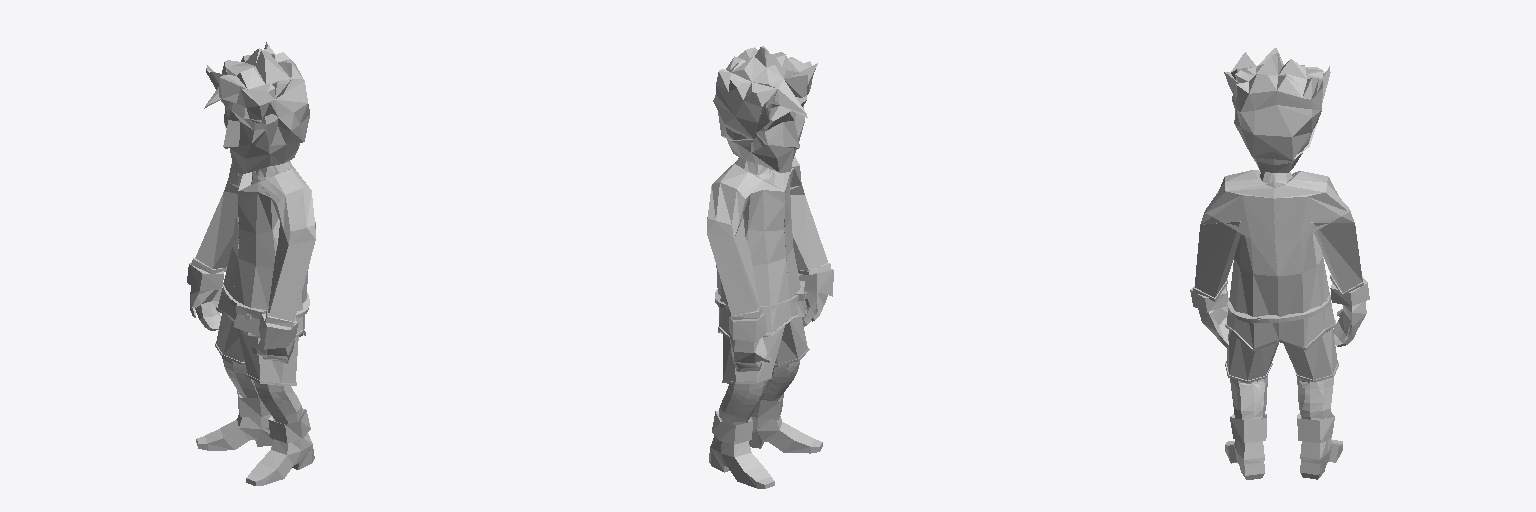
The model's file is idleNoWeapon17.obj.
3 views of the same model, side by side, from view 1: azimuth 30°, elevation 25°; view 2: azimuth 150°, elevation 25°; view 3: azimuth 270°, elevation 25° (orthographic).
Visible parts, largest first — view 1: Jacket__jaket_Cylinder.001_Jacket__jaket_Cylinder.001_P_e8d_Jack, Hair_Hair__Cube.000_Hair_Hair__Cube.000_PlayerMaterialOffic_Hair, Head_Head_Cube.000_Head_Head_Cube.000_PlayerMaterialOfficia_Head, Boot_right_bota_Cube.000_Boot_right_bota_Cube.000_Playe_7d6_Boot, Trausers_trausers_Cylinder.000_Trausers_trausers_Cylind_bfd_Trau, Humanoide_Body_Base_Modified_Humanoide_Base_Base_NPC__c_7f8_Huma, Boot_left_bota_Cube.001_Boot_left_bota_Cube.001_PlayerM_5d3_Boot, Globe_left_globe_Cylinder.001_Globe_left_globe_Cylinder_383_Glob, Globe_right_globe_Cylinder.005_Globe_right_globe_Cylind_70e_Glob, Bag_Cube_Cube.001_Bag_Cube_Cube.001_PlayerMaterialOfficial.001_B; view 2: Jacket__jaket_Cylinder.001_Jacket__jaket_Cylinder.001_P_e8d_Jack, Hair_Hair__Cube.000_Hair_Hair__Cube.000_PlayerMaterialOffic_Hair, Head_Head_Cube.000_Head_Head_Cube.000_PlayerMaterialOfficia_Head, Boot_left_bota_Cube.001_Boot_left_bota_Cube.001_PlayerM_5d3_Boot, Humanoide_Body_Base_Modified_Humanoide_Base_Base_NPC__c_7f8_Huma, Trausers_trausers_Cylinder.000_Trausers_trausers_Cylind_bfd_Trau, Boot_right_bota_Cube.000_Boot_right_bota_Cube.000_Playe_7d6_Boot, Globe_left_globe_Cylinder.001_Globe_left_globe_Cylinder_383_Glob, Globe_right_globe_Cylinder.005_Globe_right_globe_Cylind_70e_Glob; view 3: Jacket__jaket_Cylinder.001_Jacket__jaket_Cylinder.001_P_e8d_Jack, Hair_Hair__Cube.000_Hair_Hair__Cube.000_PlayerMaterialOffic_Hair, Trausers_trausers_Cylinder.000_Trausers_trausers_Cylind_bfd_Trau, Humanoide_Body_Base_Modified_Humanoide_Base_Base_NPC__c_7f8_Huma, Boot_left_bota_Cube.001_Boot_left_bota_Cube.001_PlayerM_5d3_Boot, Boot_right_bota_Cube.000_Boot_right_bota_Cube.000_Playe_7d6_Boot, Globe_left_globe_Cylinder.001_Globe_left_globe_Cylinder_383_Glob, Globe_right_globe_Cylinder.005_Globe_right_globe_Cylind_70e_Glob, Belt_Cylinder.001_Belt_Cylinder.001_PlayerMaterialOfficial.001_B, Head_Head_Cube.000_Head_Head_Cube.000_PlayerMaterialOfficia_Head.
Boxes of the visible parts, <box> form: Jacket__jaket_Cylinder.001_Jacket__jaket_Cylinder.001_P_e8d_Jack: <box>191,164,315,338</box>; Hair_Hair__Cube.000_Hair_Hair__Cube.000_PlayerMaterialOffic_Hair: <box>204,42,309,145</box>; Head_Head_Cube.000_Head_Head_Cube.000_PlayerMaterialOfficia_Head: <box>221,99,299,173</box>; Boot_right_bota_Cube.000_Boot_right_bota_Cube.000_Playe_7d6_Boot: <box>246,408,314,485</box>; Trausers_trausers_Cylinder.000_Trausers_trausers_Cylind_bfd_Trau: <box>215,314,298,385</box>; Humanoide_Body_Base_Modified_Humanoide_Base_Base_NPC__c_7f8_Huma: <box>222,161,302,424</box>; Boot_left_bota_Cube.001_Boot_left_bota_Cube.001_PlayerM_5d3_Boot: <box>196,390,273,450</box>; Globe_left_globe_Cylinder.001_Globe_left_globe_Cylinder_383_Glob: <box>187,262,223,330</box>; Globe_right_globe_Cylinder.005_Globe_right_globe_Cylind_70e_Glob: <box>252,314,298,363</box>; Bag_Cube_Cube.001_Bag_Cube_Cube.001_PlayerMaterialOfficial.001_B: <box>233,303,265,336</box>; Jacket__jaket_Cylinder.001_Jacket__jaket_Cylinder.001_P_e8d_Jack: <box>707,156,830,339</box>; Hair_Hair__Cube.000_Hair_Hair__Cube.000_PlayerMaterialOffic_Hair: <box>713,46,817,146</box>; Head_Head_Cube.000_Head_Head_Cube.000_PlayerMaterialOfficia_Head: <box>725,96,806,172</box>; Boot_left_bota_Cube.001_Boot_left_bota_Cube.001_PlayerM_5d3_Boot: <box>709,410,774,488</box>; Humanoide_Body_Base_Modified_Humanoide_Base_Base_NPC__c_7f8_Huma: <box>719,158,799,425</box>; Trausers_trausers_Cylinder.000_Trausers_trausers_Cylind_bfd_Trau: <box>722,317,809,383</box>; Boot_right_bota_Cube.000_Boot_right_bota_Cube.000_Playe_7d6_Boot: <box>749,394,822,453</box>; Globe_left_globe_Cylinder.001_Globe_left_globe_Cylinder_383_Glob: <box>729,313,771,371</box>; Globe_right_globe_Cylinder.005_Globe_right_globe_Cylind_70e_Glob: <box>798,269,833,326</box>; Jacket__jaket_Cylinder.001_Jacket__jaket_Cylinder.001_P_e8d_Jack: <box>1193,170,1363,351</box>; Hair_Hair__Cube.000_Hair_Hair__Cube.000_PlayerMaterialOffic_Hair: <box>1224,48,1330,160</box>; Trausers_trausers_Cylinder.000_Trausers_trausers_Cylind_bfd_Trau: <box>1225,329,1338,382</box>; Humanoide_Body_Base_Modified_Humanoide_Base_Base_NPC__c_7f8_Huma: <box>1230,172,1333,420</box>; Boot_left_bota_Cube.001_Boot_left_bota_Cube.001_PlayerM_5d3_Boot: <box>1297,412,1342,479</box>; Boot_right_bota_Cube.000_Boot_right_bota_Cube.000_Playe_7d6_Boot: <box>1225,414,1266,479</box>; Globe_left_globe_Cylinder.001_Globe_left_globe_Cylinder_383_Glob: <box>1330,276,1369,346</box>; Globe_right_globe_Cylinder.005_Globe_right_globe_Cylind_70e_Glob: <box>1190,286,1228,347</box>; Belt_Cylinder.001_Belt_Cylinder.001_PlayerMaterialOfficial.001_B: <box>1227,295,1330,322</box>; Head_Head_Cube.000_Head_Head_Cube.000_PlayerMaterialOfficia_Head: <box>1253,131,1312,172</box>.
Bounding box in the file's own units: 9.3 × 39.81 × 15.75.